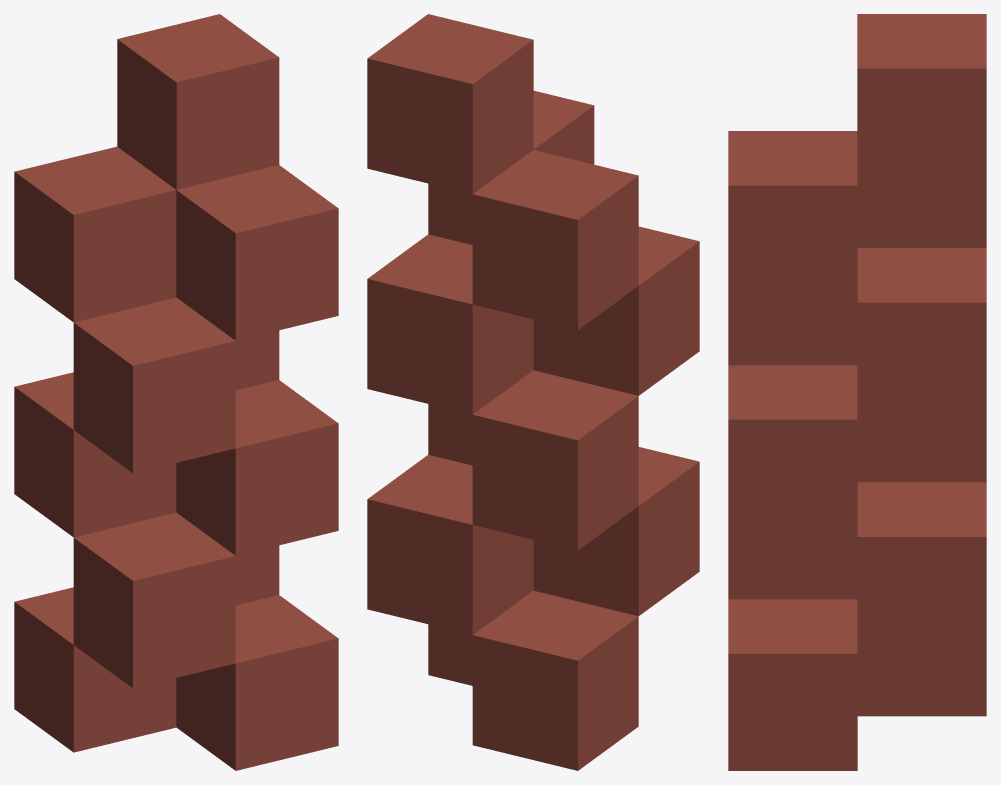
The model's file is NB_TR_F_Braid_Test_01.fbx.
3 views of the same model, side by side, from view 1: azimuth 30°, elevation 25°; view 2: azimuth 150°, elevation 25°; view 3: azimuth 270°, elevation 25° (orthographic). The views are drawn at different scales.
Visible parts, largest first — view 1: Braid_Test_01; view 2: Braid_Test_01; view 3: Braid_Test_01.
Part boxes in pixels (x1,y1,x2,y2): Braid_Test_01: [14, 14, 338, 770]; Braid_Test_01: [367, 14, 699, 770]; Braid_Test_01: [728, 14, 986, 770].
Size of the model in its own units: 2 by 6 by 2.
1 material, 1 textured.
